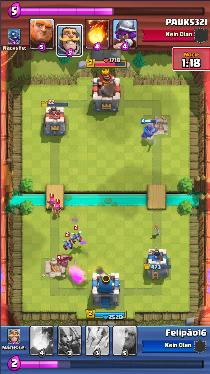ally_knight: (141, 122, 157, 139)
enemy_archer: (53, 204, 61, 215), (47, 198, 54, 207)
enemy_mini_pekka: (57, 256, 71, 267)
enemy_minion: (71, 232, 82, 242), (63, 240, 73, 249)
